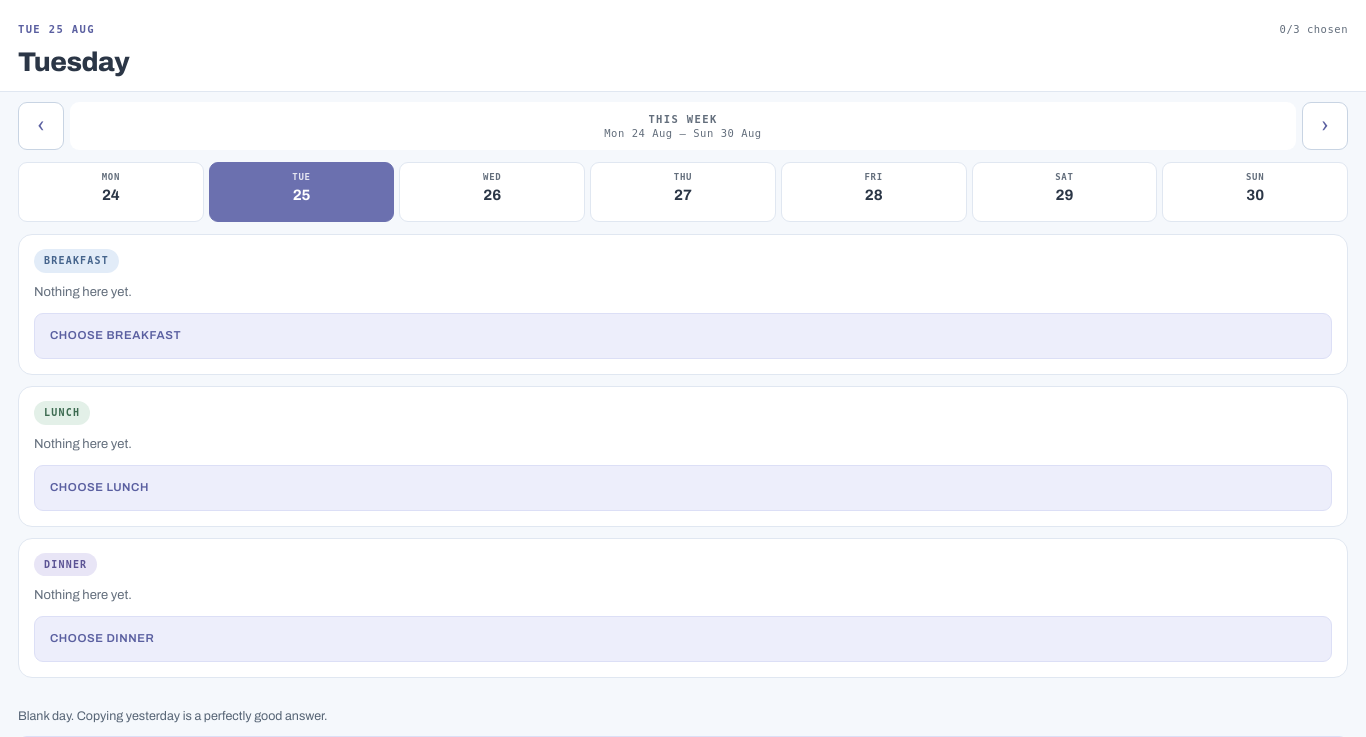
Test: Plan › names the slot it is filling, so the sheet is not ambiguous
Step 1. Click the button "Choose lunch" → (99, 487), box [34, 465, 1332, 511]
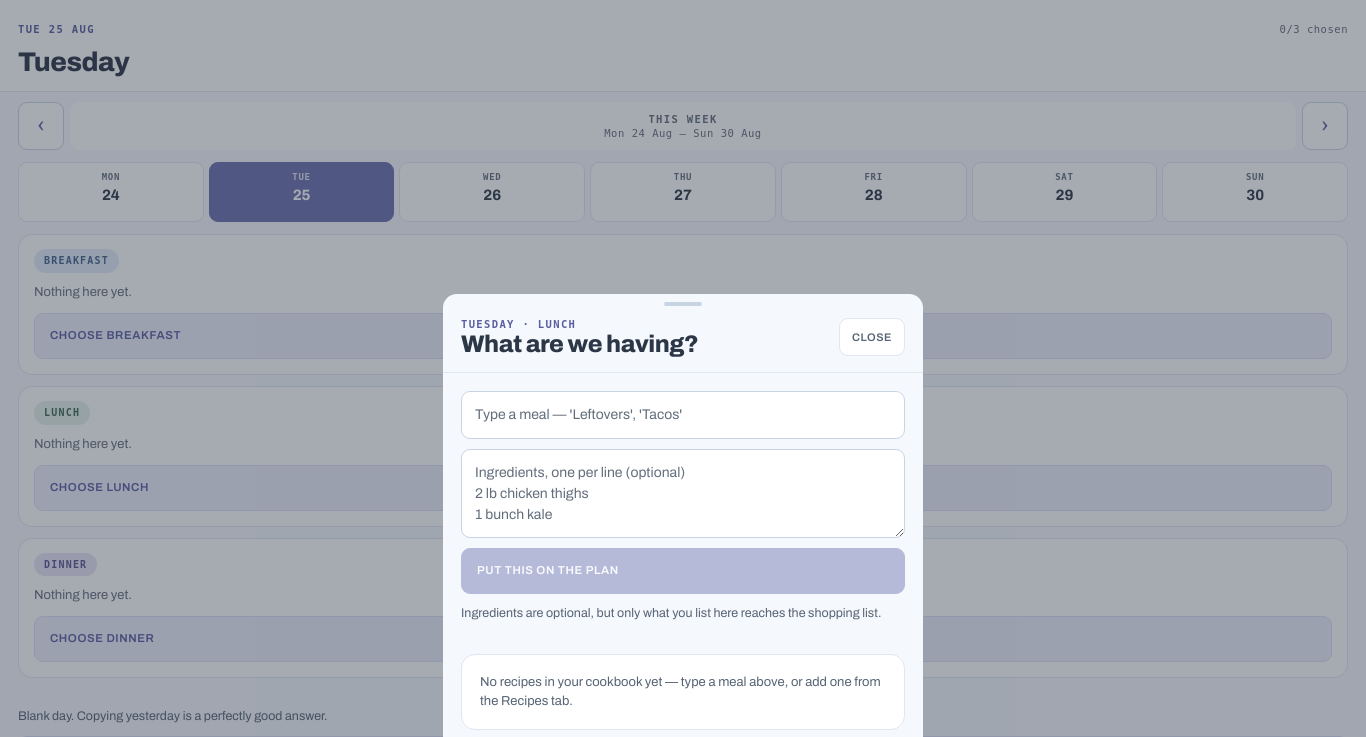
Expected: the text "Tuesday · Lunch" is shown, [461, 318, 576, 330]
